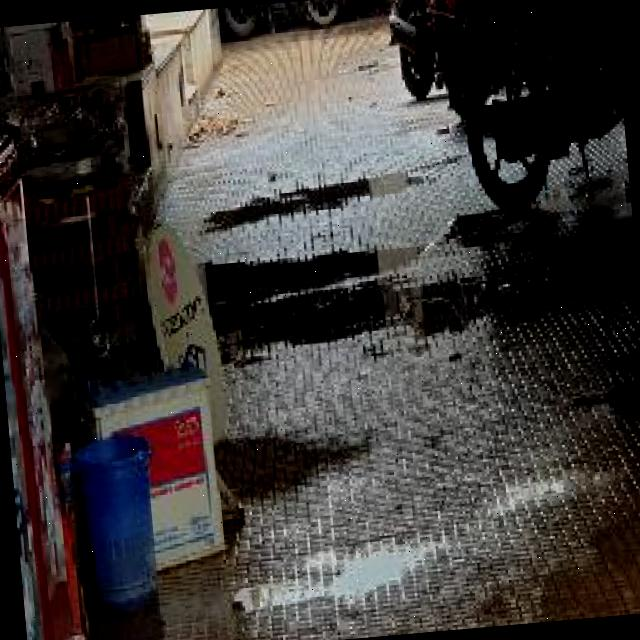stagnation: (225, 219, 588, 370), (192, 148, 458, 244), (221, 416, 384, 512)
